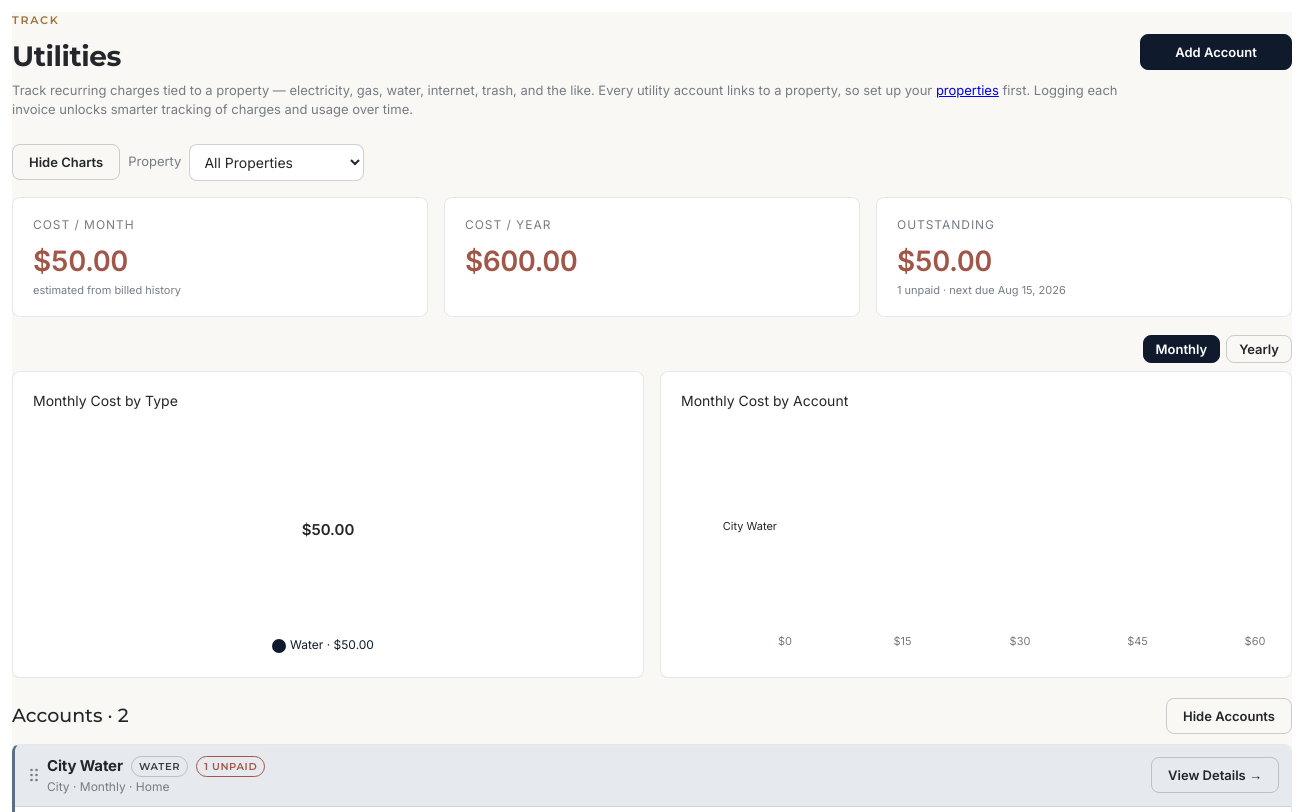
Test case: Utilities page › filters by property via the select
This screenshot has width=1304, height=812.
Select "Cabin" in the dropdown at (277, 162), box top-left (189, 144), bottom-right (364, 180)
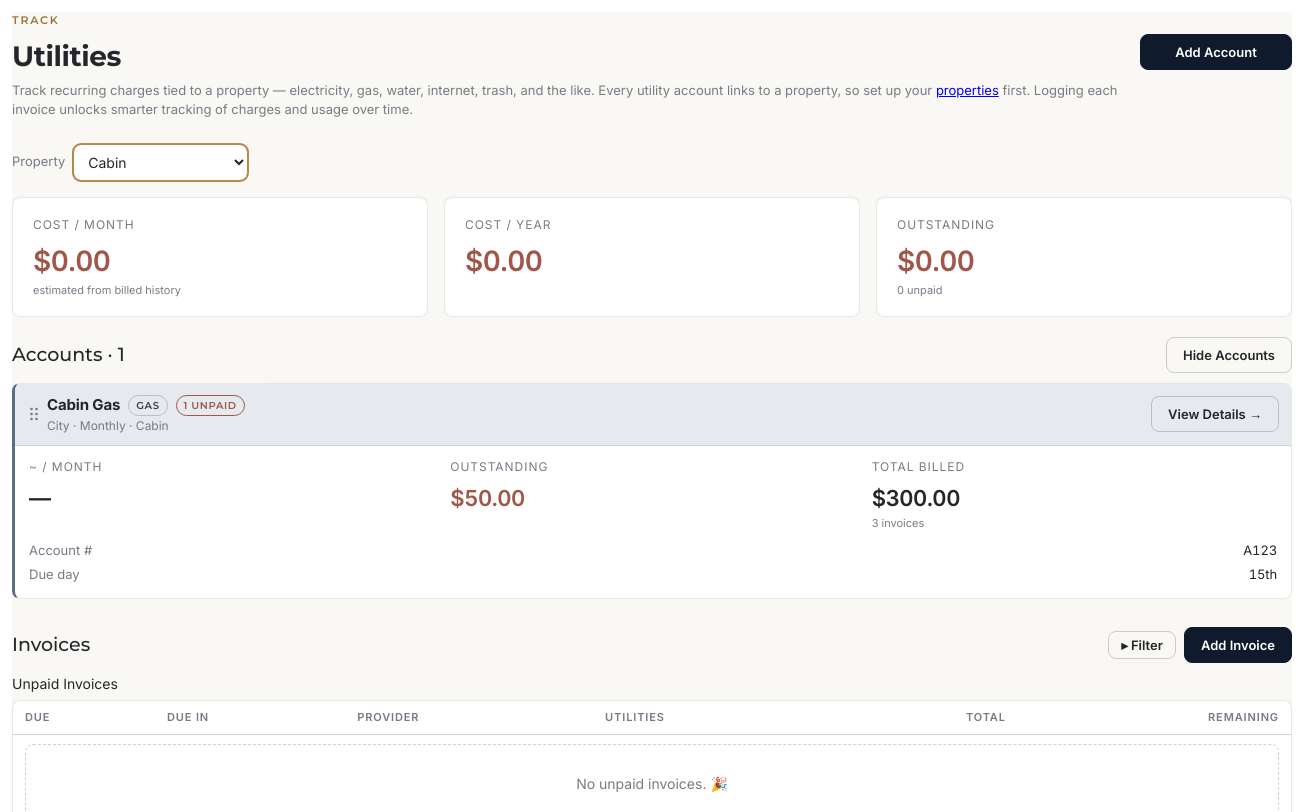
Check: the text "Cabin Gas" is shown, box top-left (47, 395), bottom-right (120, 414)
Check: the icon "City Water" is gone
